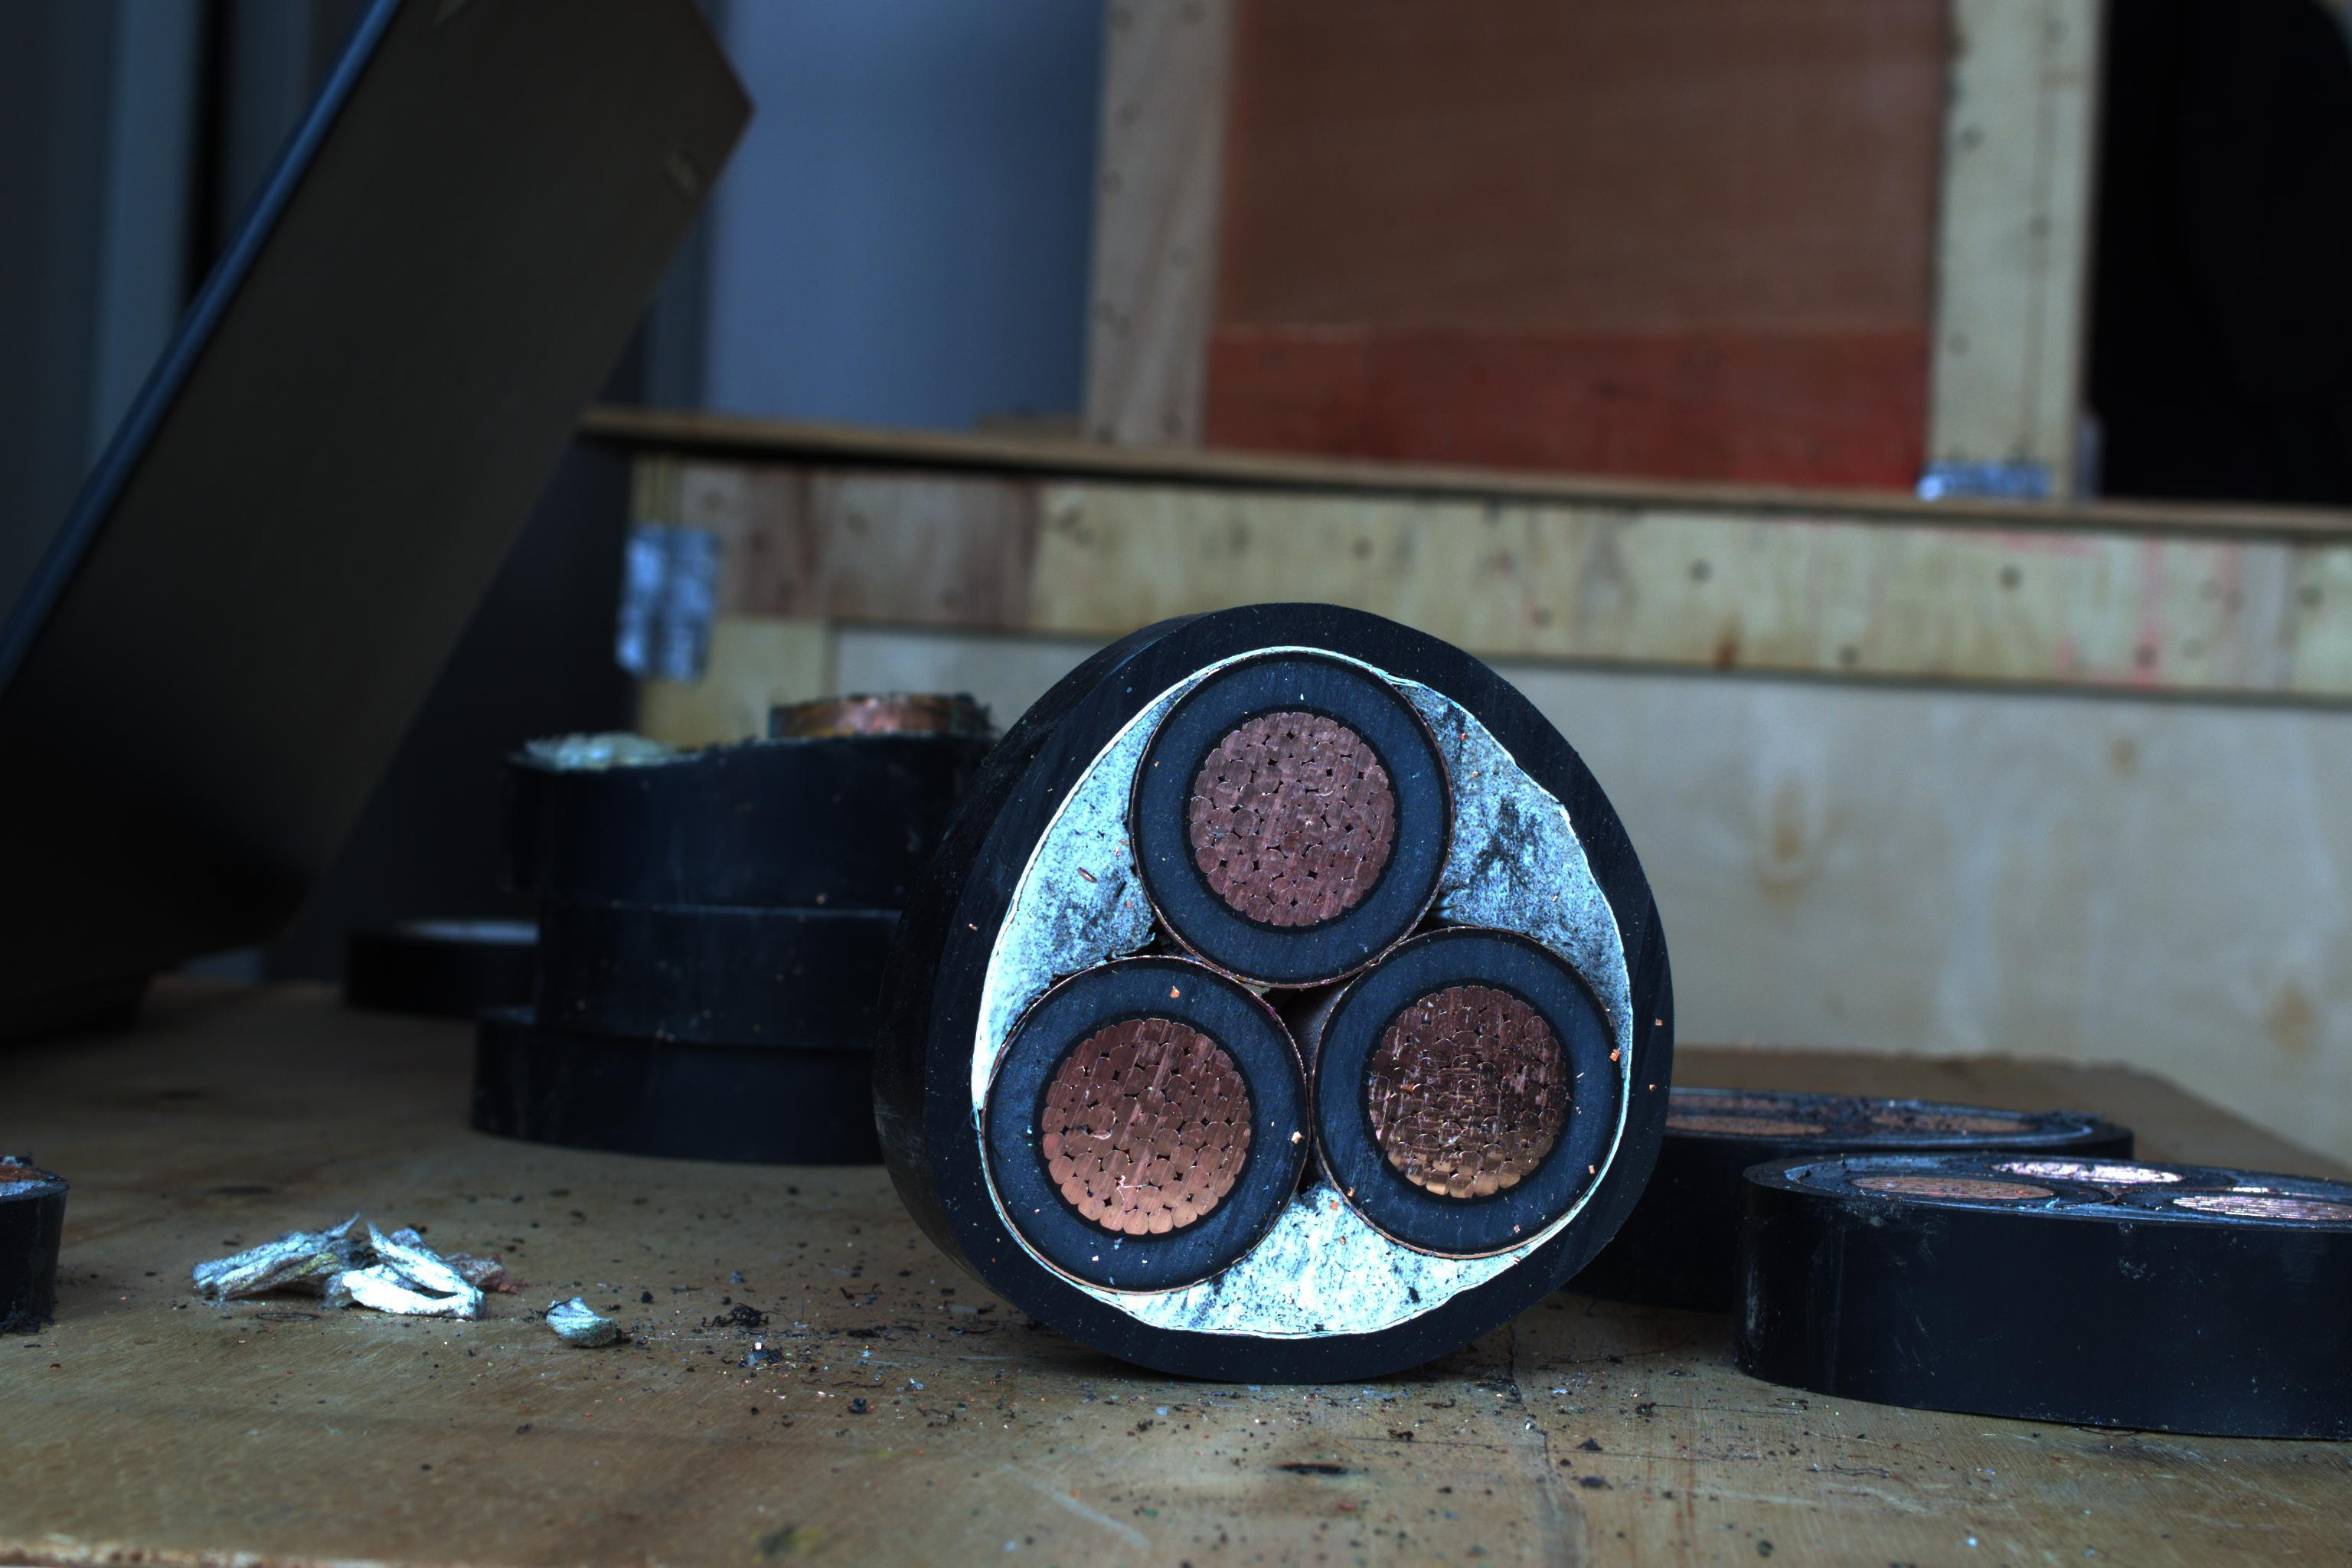ZA_YJV_8.7_10kV_3x400: (924, 619, 1690, 1374)
